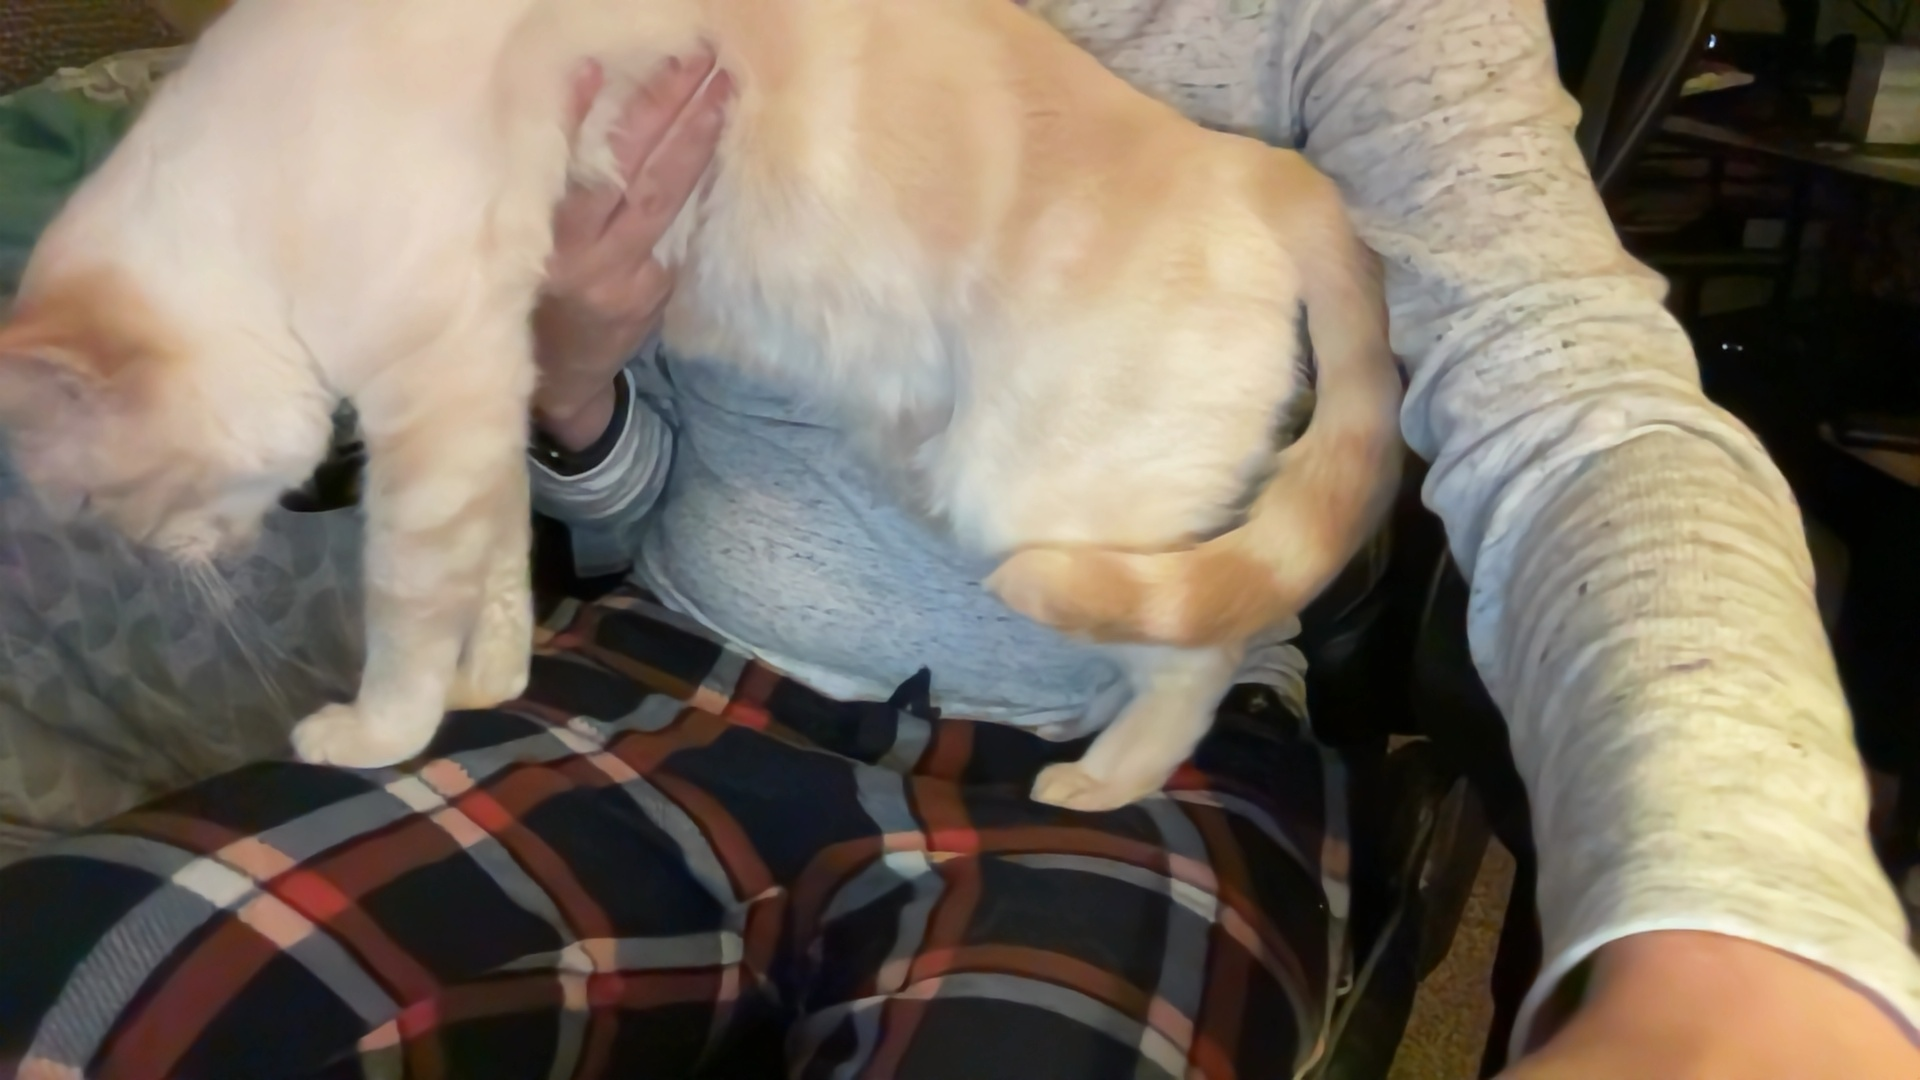cat: (11, 1, 1416, 820)
